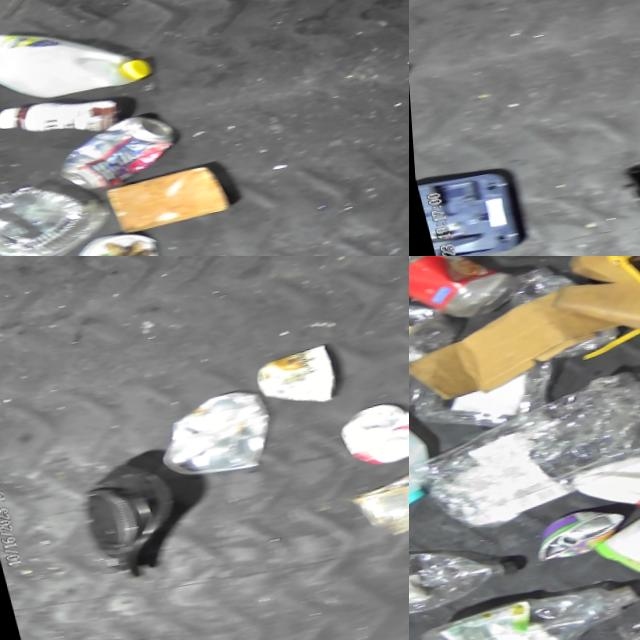can: (44, 106, 184, 196), (519, 500, 628, 565), (578, 484, 640, 592), (329, 391, 409, 471)
milk_jug: (0, 4, 154, 111), (553, 420, 640, 551)
plastic_bottle: (409, 572, 640, 640), (500, 256, 623, 364), (409, 525, 523, 633), (409, 270, 464, 396)
